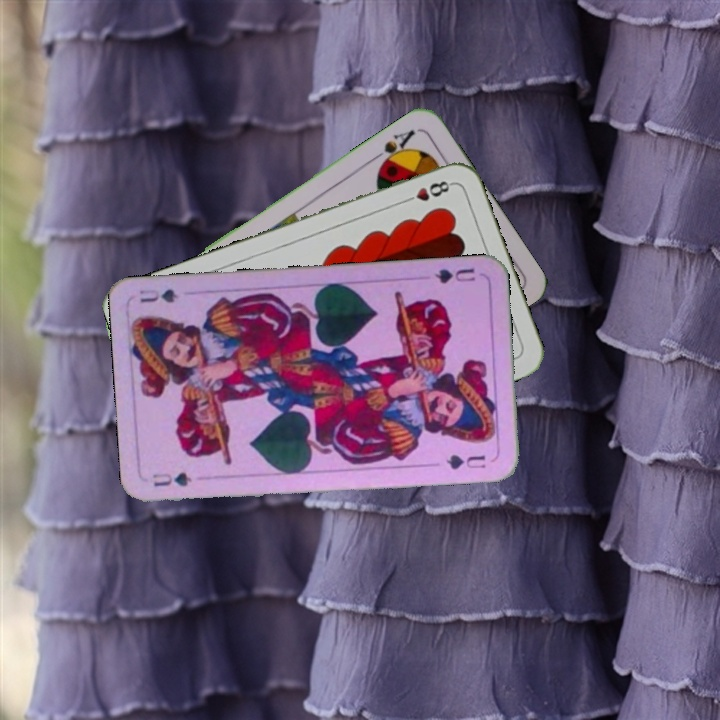GU: (431, 264, 478, 286), (149, 468, 194, 490)
H8: (398, 176, 455, 207)
SA: (367, 125, 418, 172)
